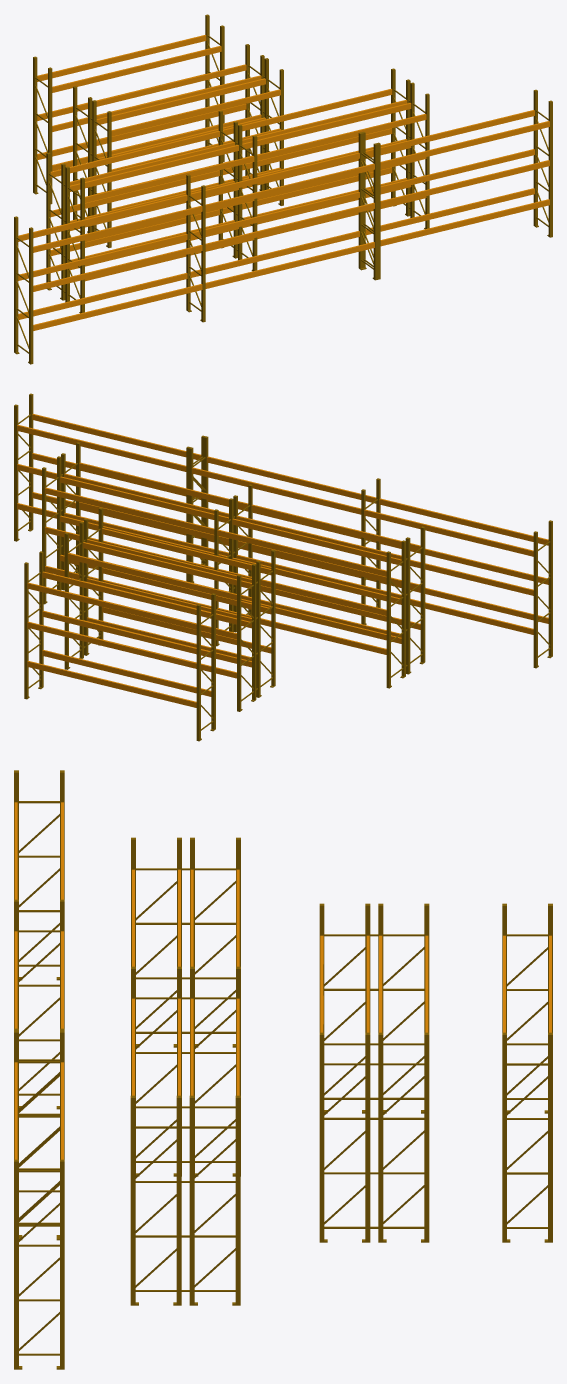
The model's file is SM_Shelves_01.fbx.
The picture shows the model from 3 angles, top to bottom: view 1: azimuth 30°, elevation 25°; view 2: azimuth 150°, elevation 25°; view 3: azimuth 270°, elevation 25°; orthographic projection. The views are drawn at different scales.
Parts seen in each view (by area): view 1: Single_long_storage, Double_medium_storage, Double_short_storage, Single_short_storage; view 2: Double_medium_storage, Single_long_storage, Double_short_storage, Single_short_storage; view 3: Double_medium_storage, Double_short_storage, Single_long_storage, Single_short_storage.
Boxes of the visible parts, bbox=[...] form: Single_long_storage: bbox=[14, 89, 552, 364]; Double_medium_storage: bbox=[46, 68, 429, 313]; Double_short_storage: bbox=[73, 44, 283, 247]; Single_short_storage: bbox=[33, 14, 224, 204]; Double_medium_storage: bbox=[42, 442, 425, 688]; Single_long_storage: bbox=[14, 393, 552, 668]; Double_short_storage: bbox=[64, 507, 275, 711]; Single_short_storage: bbox=[24, 551, 215, 741]; Double_medium_storage: bbox=[130, 837, 240, 1305]; Double_short_storage: bbox=[319, 903, 429, 1242]; Single_long_storage: bbox=[14, 770, 64, 1369]; Single_short_storage: bbox=[502, 903, 552, 1242].
Bounding box in the file's own units: 2231 × 553 × 1299.
